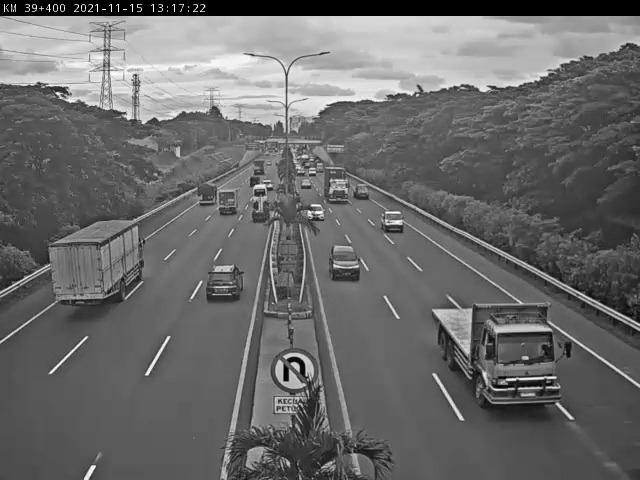car: (203, 263, 247, 303), (327, 243, 362, 280), (379, 208, 405, 234), (306, 201, 327, 222)
truck-l-: (434, 304, 568, 410), (51, 219, 146, 307)
truck-s-: (248, 196, 274, 226), (214, 189, 239, 219), (194, 181, 219, 207)
